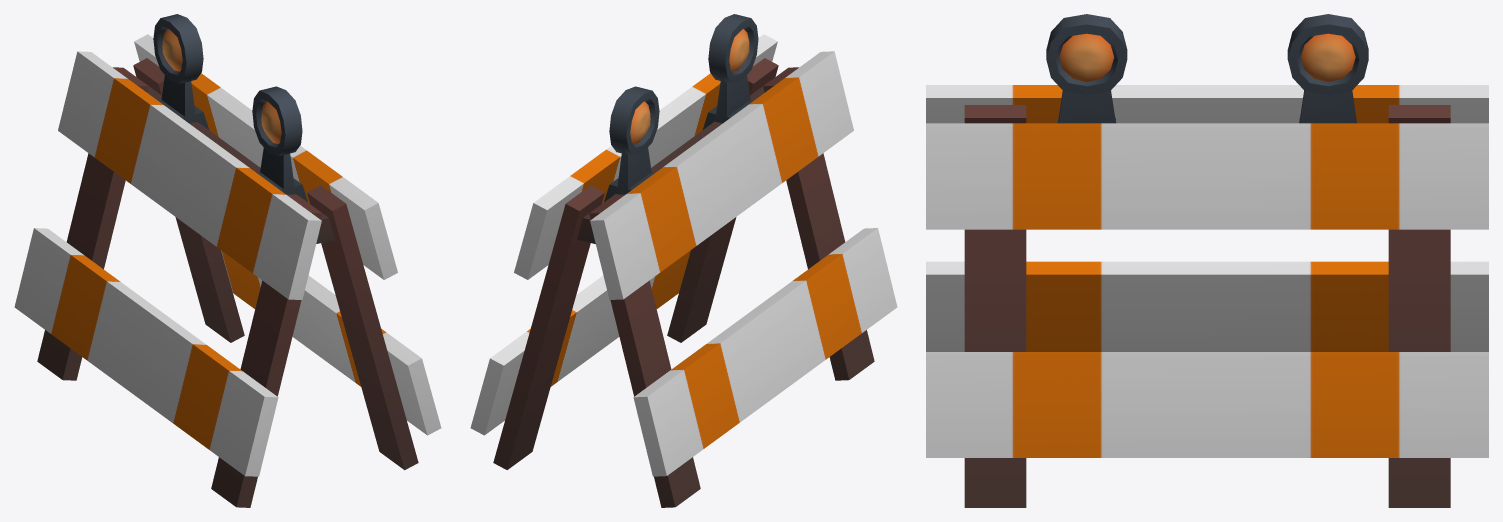
Rendered from Barricade.fbx.
3 views of the same model, side by side, from view 1: azimuth 30°, elevation 25°; view 2: azimuth 150°, elevation 25°; view 3: azimuth 270°, elevation 25° (orthographic). The views are drawn at different scales.
Parts seen in each view (by area): view 1: Barricade; view 2: Barricade; view 3: Barricade.
Part boxes in pixels (x1,y1,x2,y2): Barricade: [14, 14, 441, 507]; Barricade: [470, 14, 897, 507]; Barricade: [926, 14, 1488, 507].
Size of the model in its own units: 0.7291 by 1.28 by 1.48.
Materials: 1 (1 with a texture image).
